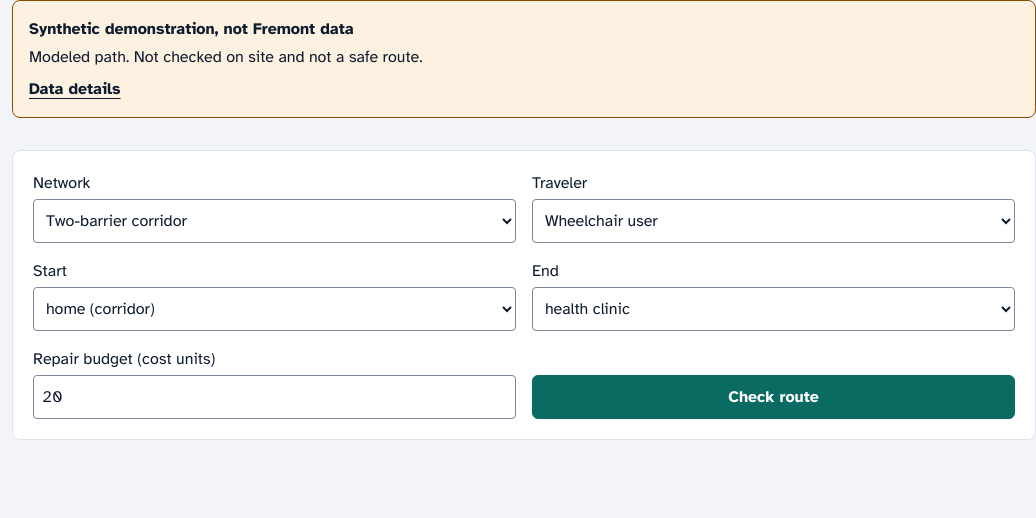
Scenario: reports an unreadable response instead of crashing when the snapshot is missing
expect the dropdown labelled "Start" is shown: met, box [33,287,516,331]
Step 1. Click the button "Check route" → (774, 397), box [532,375,1015,419]
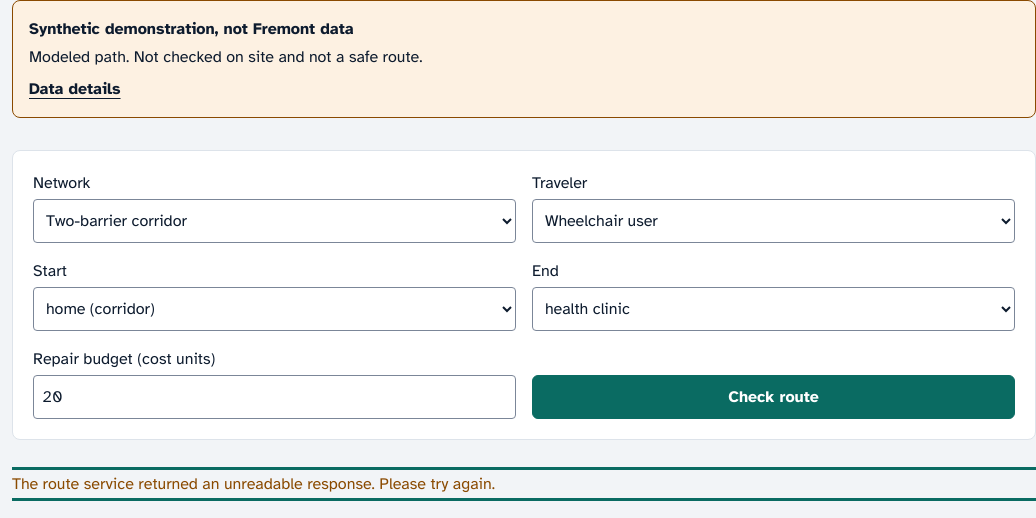
expect the text "The route service returned an unreadable response. Please try again." is shown: met, box [12,474,495,494]
